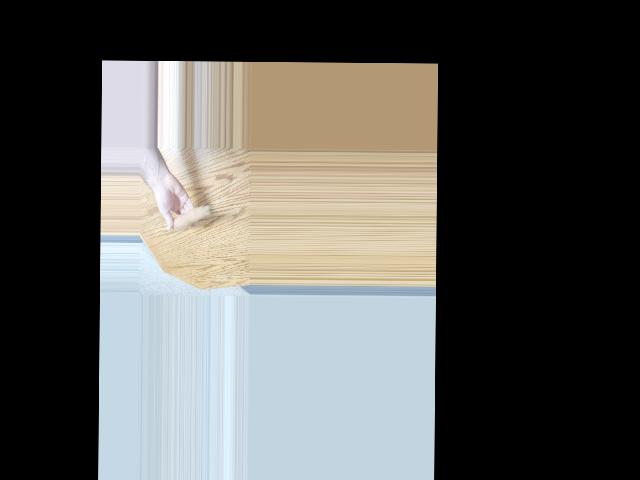sweet_potato: (168, 202, 210, 231)
